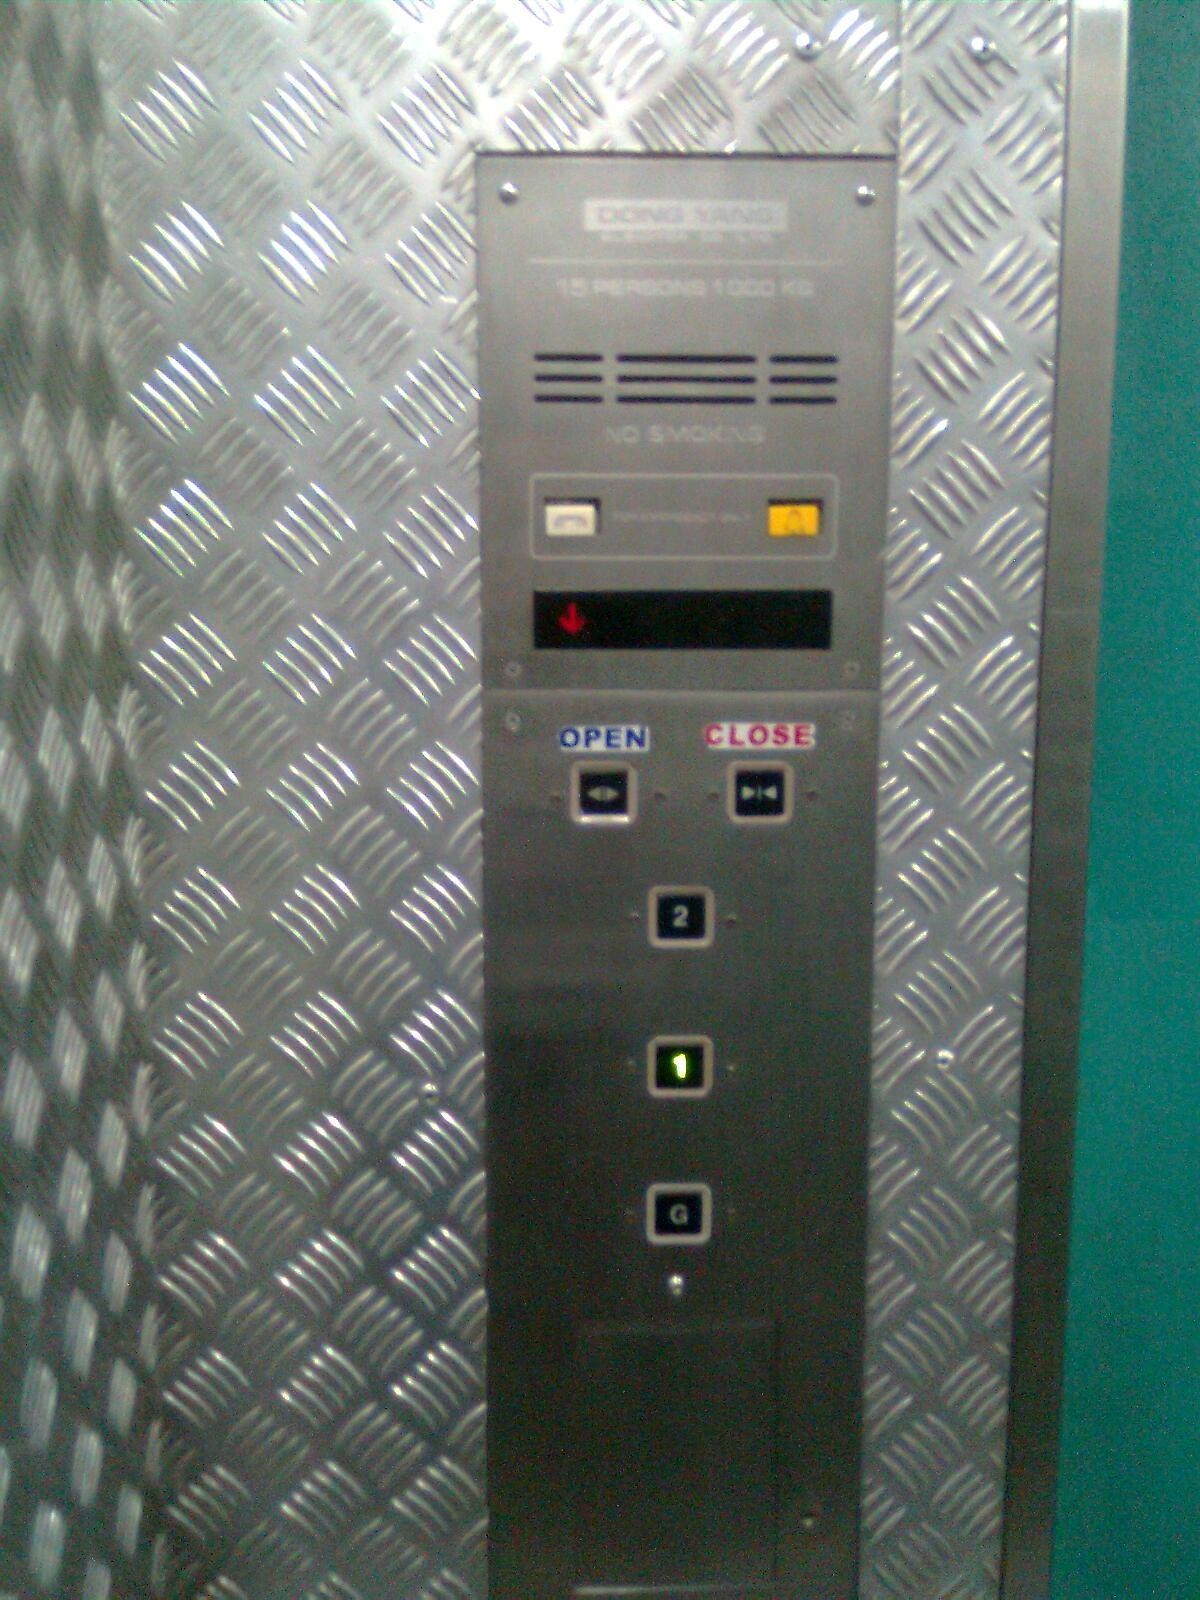1: (648, 1036, 713, 1099)
2: (649, 884, 715, 949)
G: (645, 1184, 710, 1243)
alarm: (764, 500, 823, 539)
call: (543, 499, 600, 540)
close: (726, 760, 793, 824)
led: (521, 577, 839, 654)
open: (572, 760, 635, 824)
